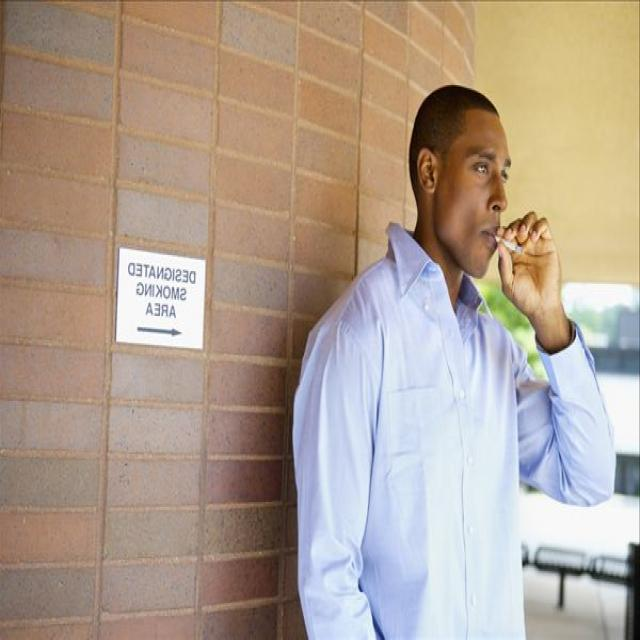smoking: (492, 234, 521, 250)
